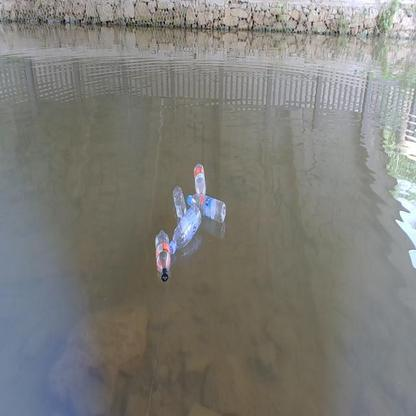plastic bottle: (168, 203, 204, 251), (187, 189, 226, 223), (153, 229, 171, 282), (172, 186, 187, 217), (194, 163, 207, 196)
